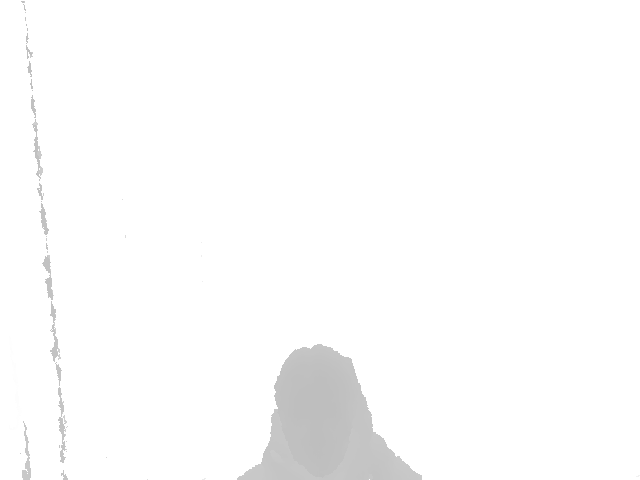head: (274, 344, 361, 480)
person: (233, 343, 424, 480)
